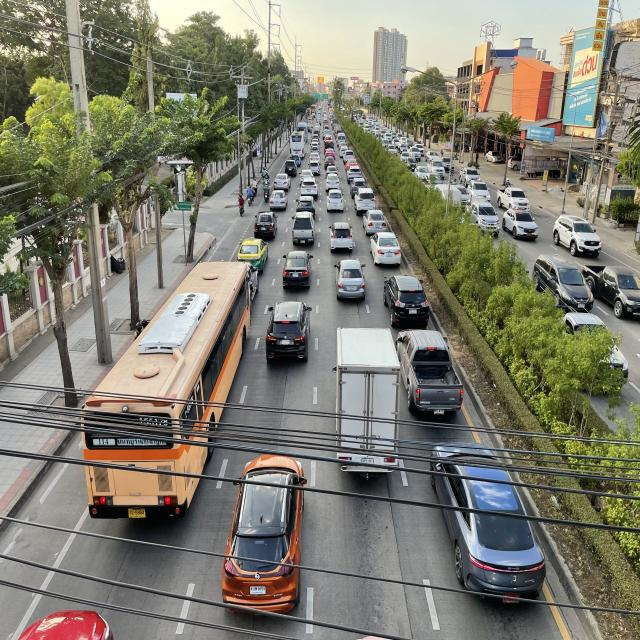bus: (74, 256, 254, 528)
car: (427, 430, 548, 607), (216, 444, 312, 618)
truck: (332, 316, 402, 492)
